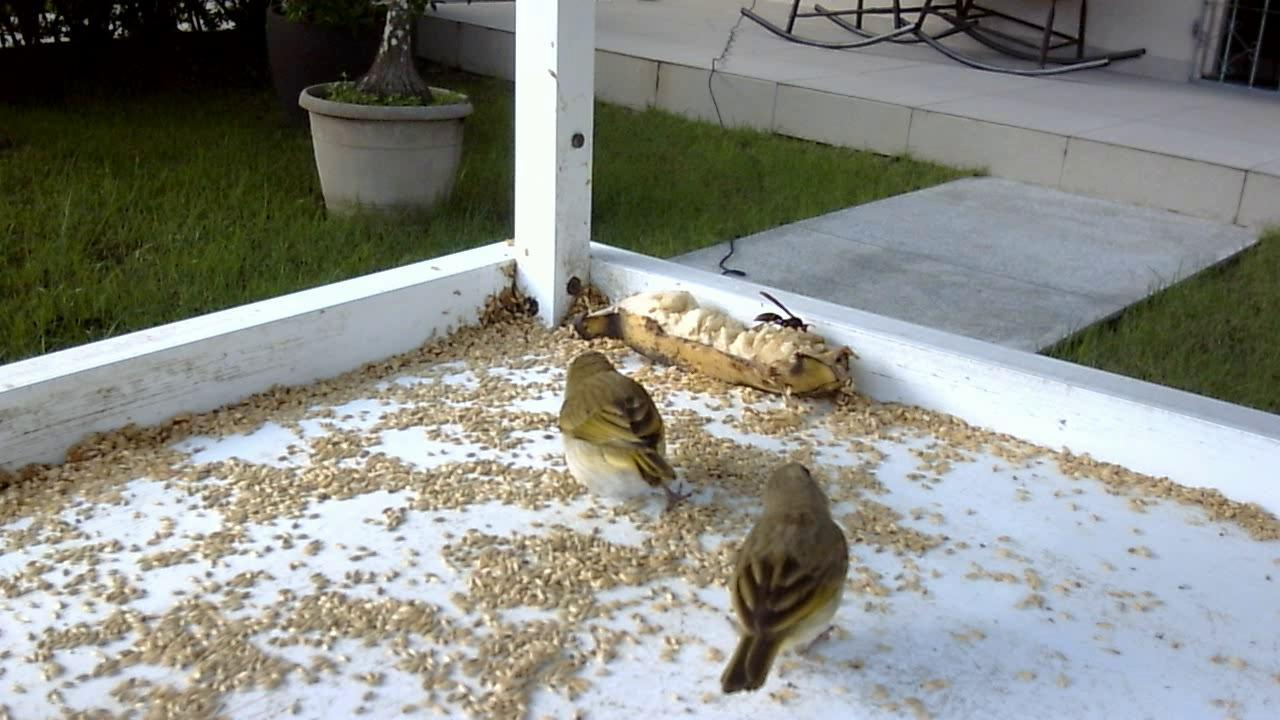canario_do_amazonas: (712, 455, 859, 697), (551, 345, 712, 524)
